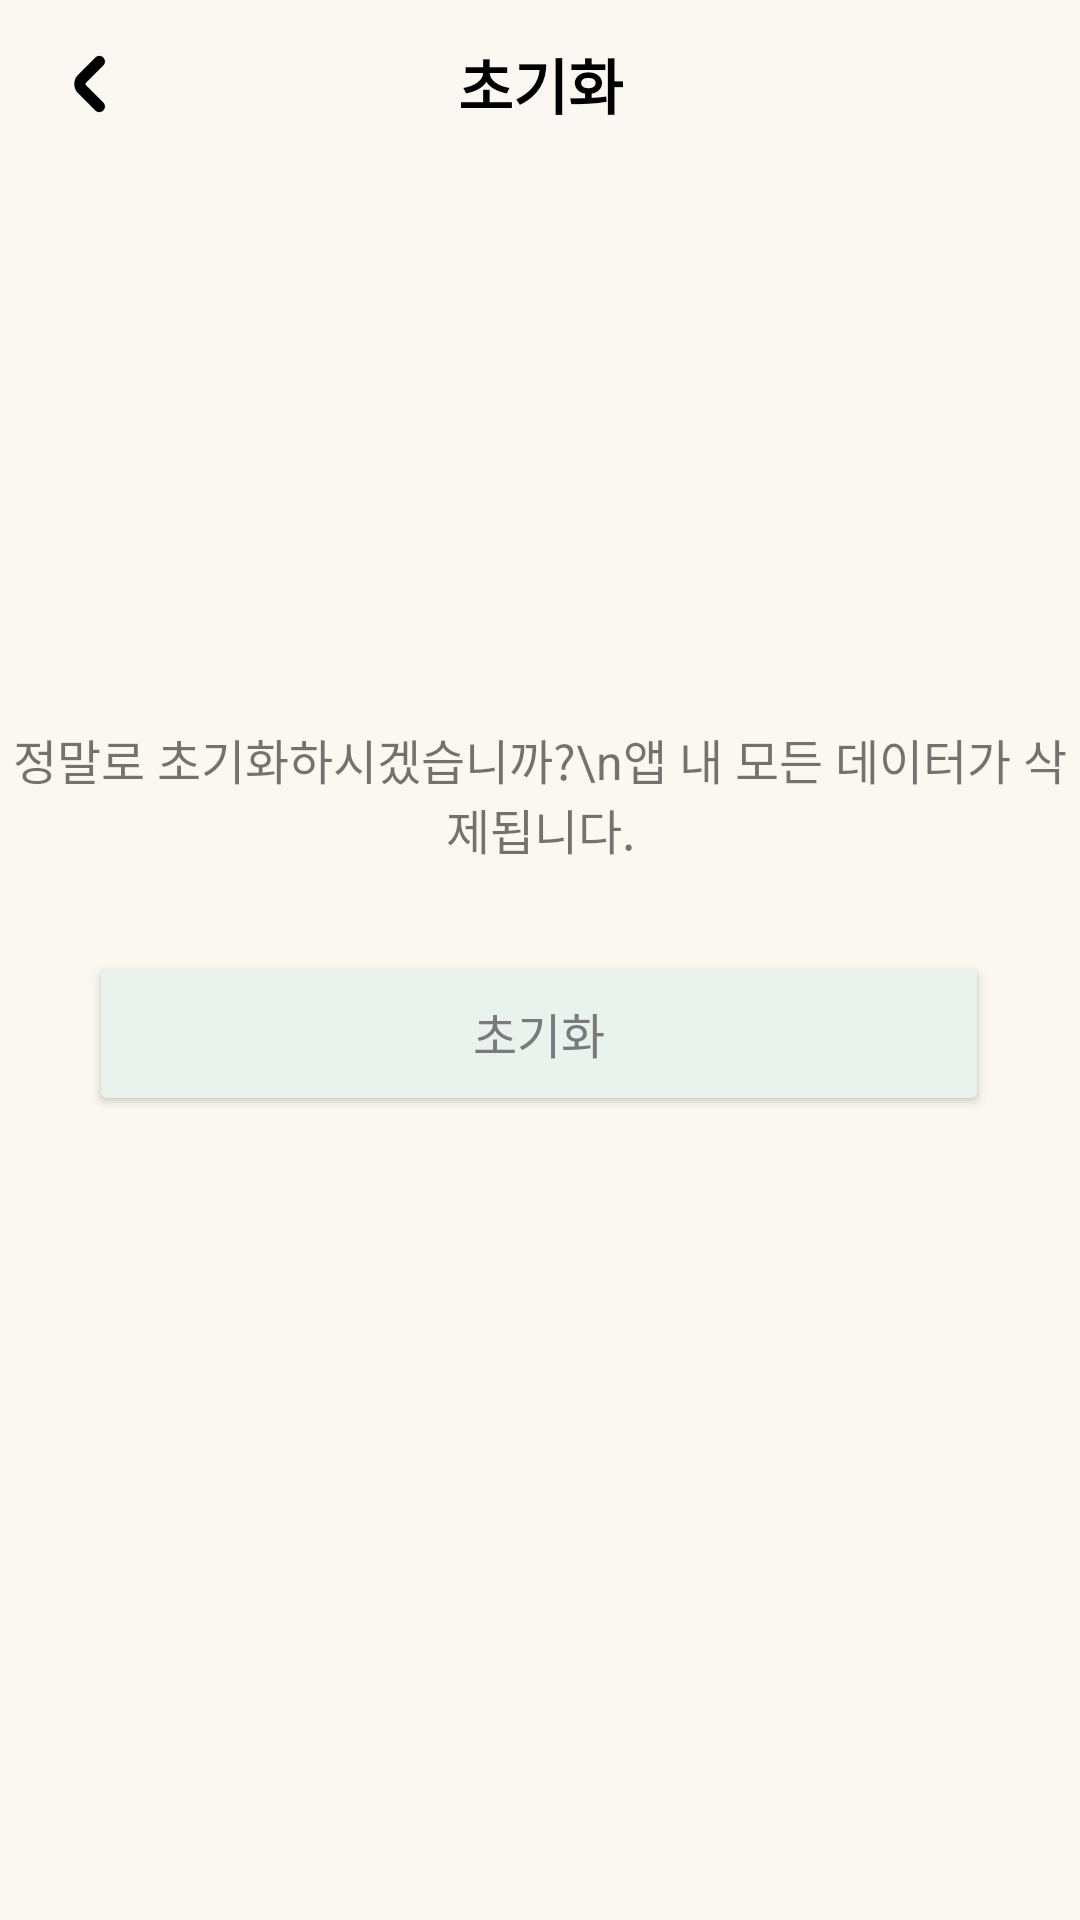

Icon bounding boxes for this 1080 × 1920 phone screenshot, format bbox=[x1, y1, x2, y2]:
back: bbox=[74, 55, 105, 113]
